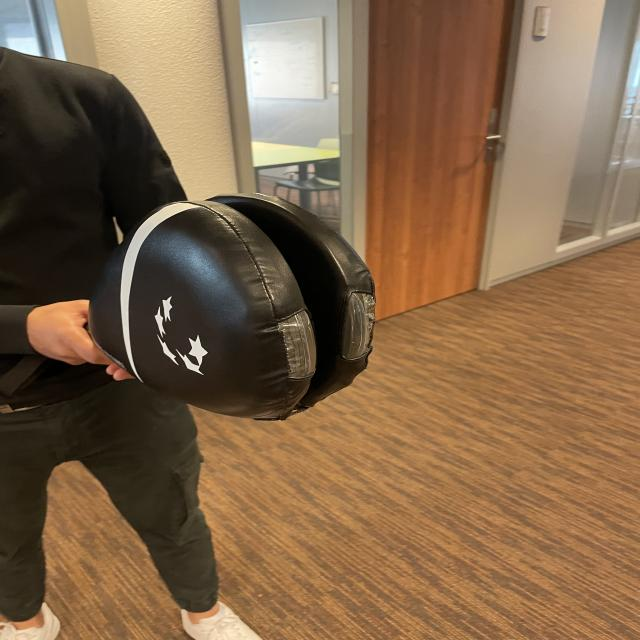paddle: (86, 192, 376, 423)
